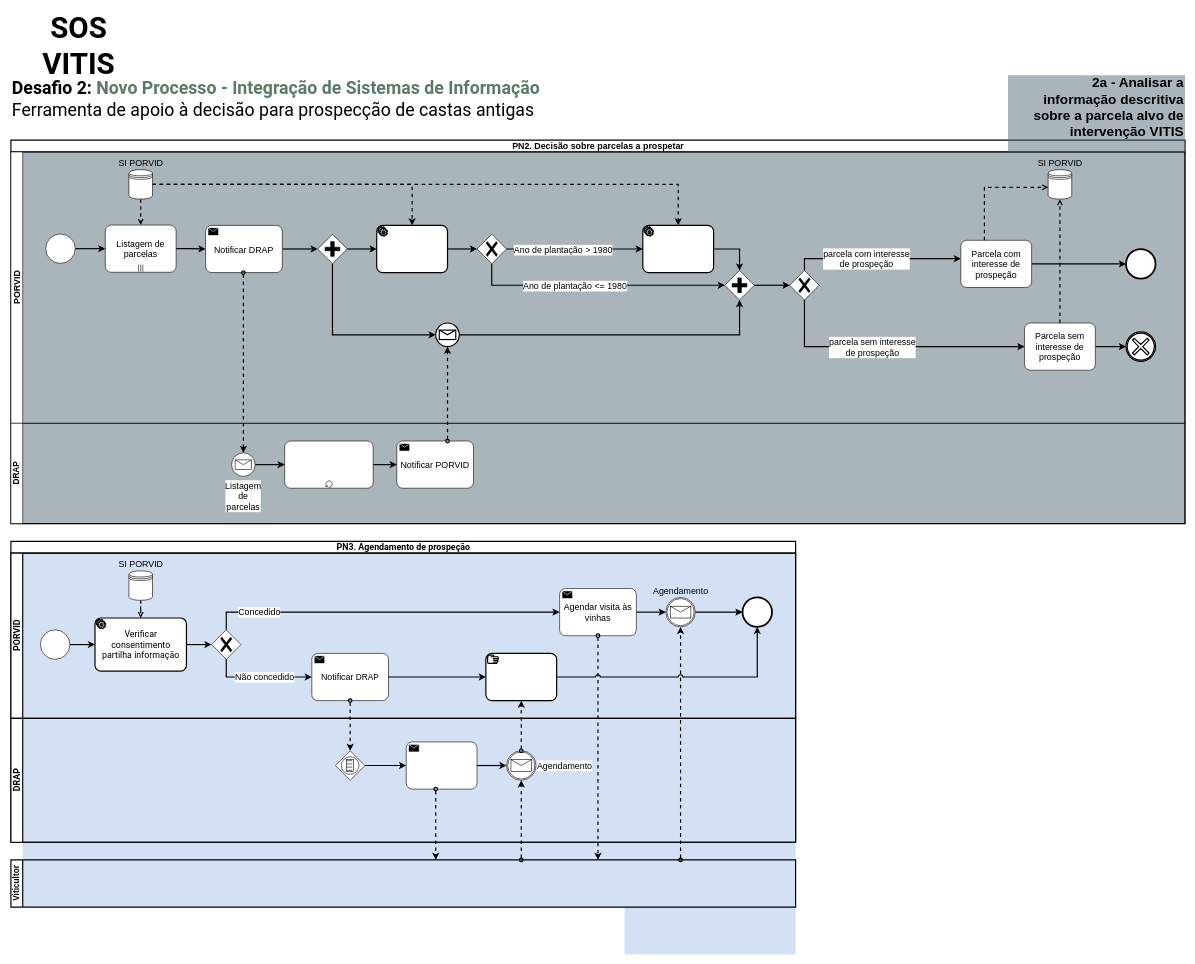
The diagram is 1195 pixels wide and 964 high, and some of its shapes have lost their labels. The centre of each missing label's shape, as x and y in pixels:
2b - Agendar uma prospeção à parcela: point 709,930
Agendamento concluido: point 757,612
Confirmar agendamento: point 521,677
Necessário identificar e contactar viticultores: point 350,765
Notificar viticultores: point 441,765
Notificação DRAP: point 447,334
Parcelas com interesse: point 1140,264
Parcelas sem interesse: point 1140,346
Validação ano plantação: point 412,248
Validação da percela: point 328,464
Validação de castas: point 678,248
